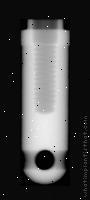3M ESPE: (18, 18, 70, 186)
